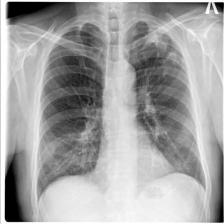tuberculosis: (30, 13, 210, 222)
